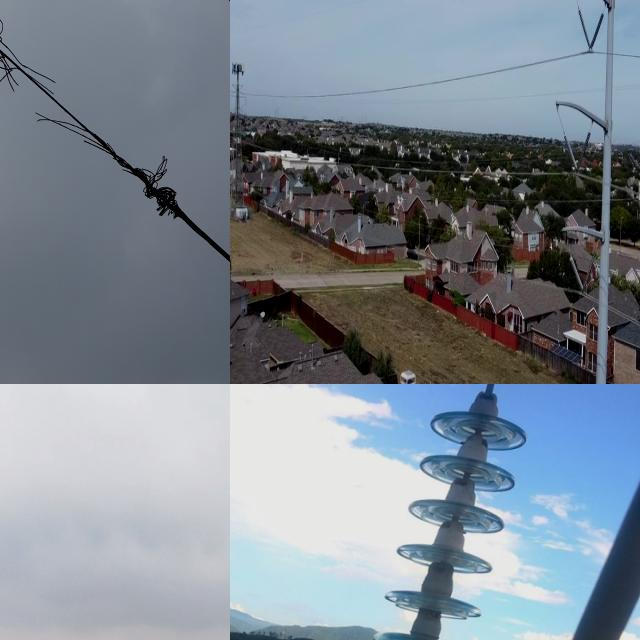杆塔: (230, 57, 251, 223)
正常绝缘子: (332, 398, 531, 640), (567, 125, 597, 188), (561, 239, 587, 297), (577, 243, 602, 302), (571, 0, 595, 57), (558, 118, 580, 180), (585, 7, 608, 61), (245, 96, 247, 107)
电缆破损: (0, 0, 190, 239)
